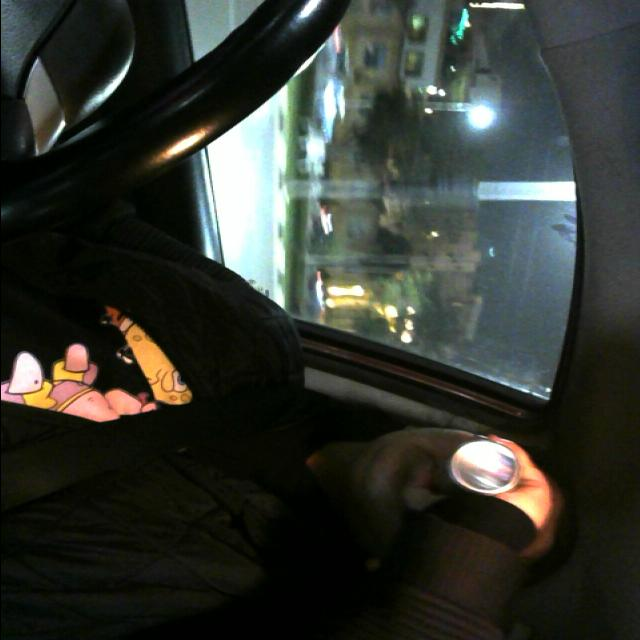drinking: (410, 434, 536, 522)
